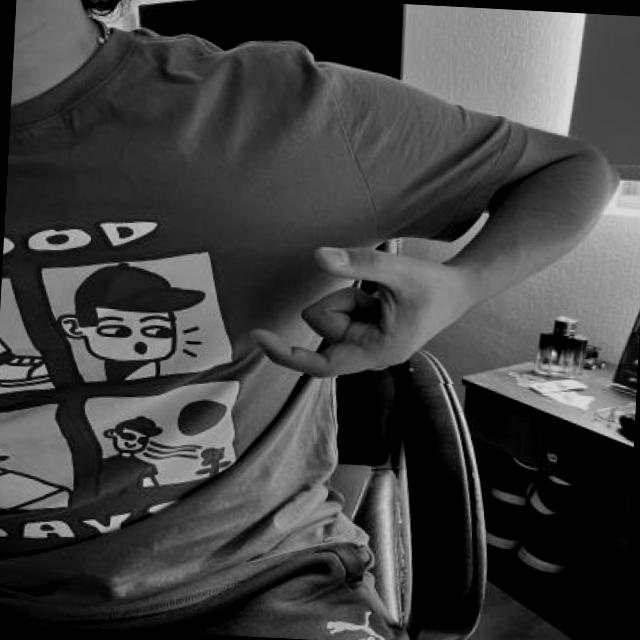G: (239, 232, 470, 384)
